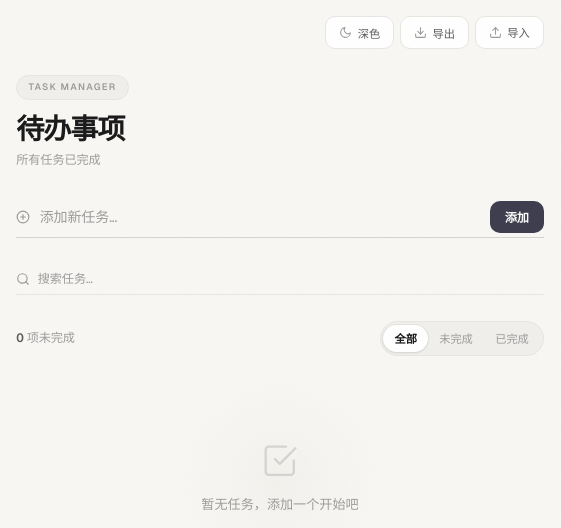
Scenario: TodoApp › should edit a todo via double click
This screenshot has width=561, height=528.
Type "旧文本" into the field with placeholder "添加新任务...".
click(260, 217); type("旧文本")  # box x1=40 y1=197 x2=480 y2=237
Then press Enter
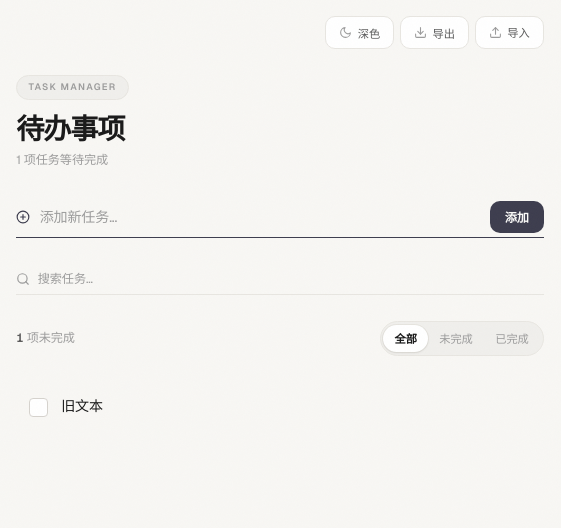
Double-click the text "旧文本".
double_click(82, 406)  # box x1=61 y1=397 x2=103 y2=415
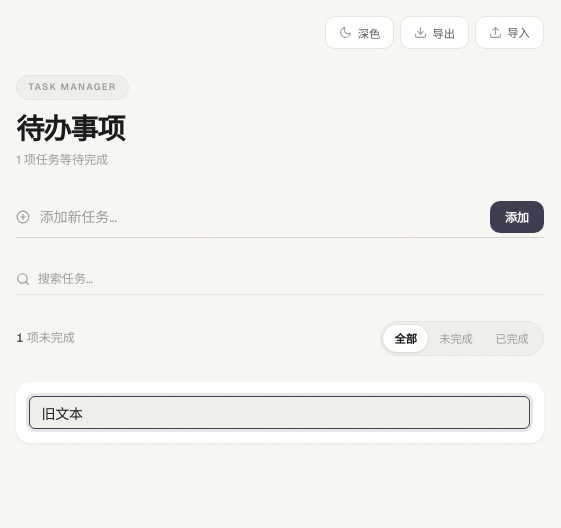
Replace the text in the field showing "旧文本" with "新文本" at (280,413), box x1=29 y1=396 x2=531 y2=429
Then press Enter
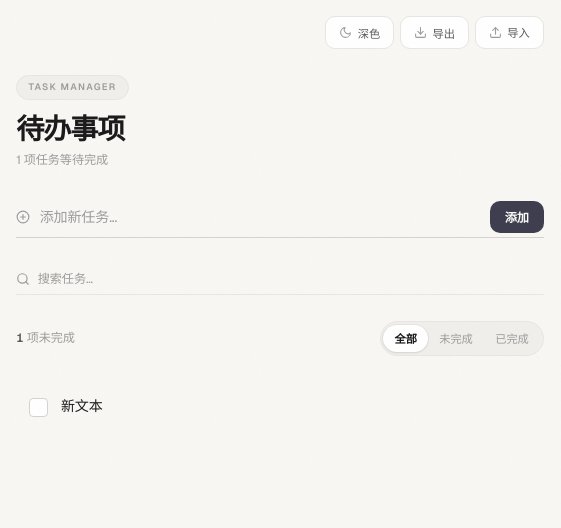
Expected: the text "旧文本" is not shown
Expected: the text "新文本" is shown, x1=61 y1=397 x2=103 y2=415
